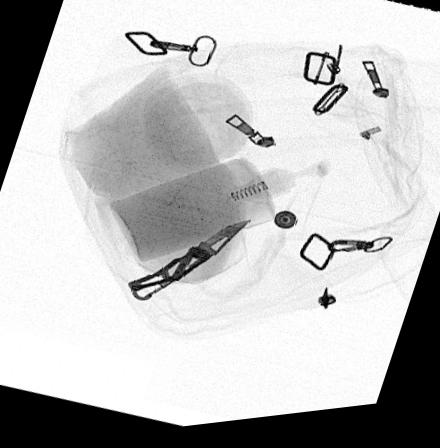Knife: (125, 225, 250, 303)
